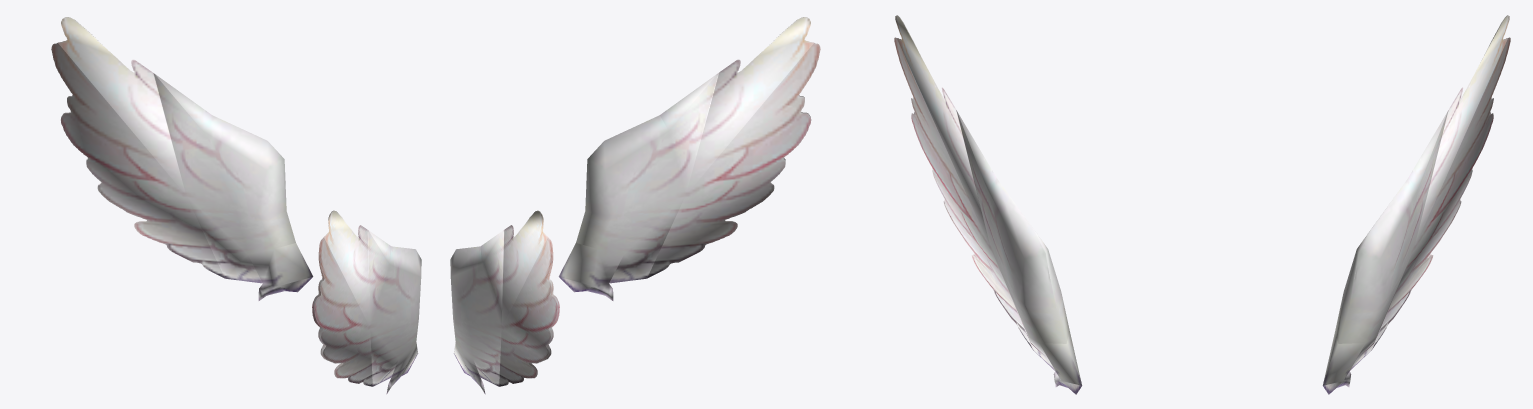
Rendered from head_6100003.FBX.
The picture shows the model from 3 angles, left to right: view 1: azimuth 30°, elevation 25°; view 2: azimuth 150°, elevation 25°; view 3: azimuth 270°, elevation 25°; orthographic projection. The views are drawn at different scales.
Visible parts, largest first — view 1: head_6100003; view 2: head_6100003; view 3: head_6100003.
Part boxes in pixels (x1=…): head_6100003: x1=51, y1=17, x2=421, y2=394; head_6100003: x1=450, y1=17, x2=820, y2=394; head_6100003: x1=894, y1=15, x2=1510, y2=394.
Size of the model in its own units: 25.26 by 30.13 by 56.43.
